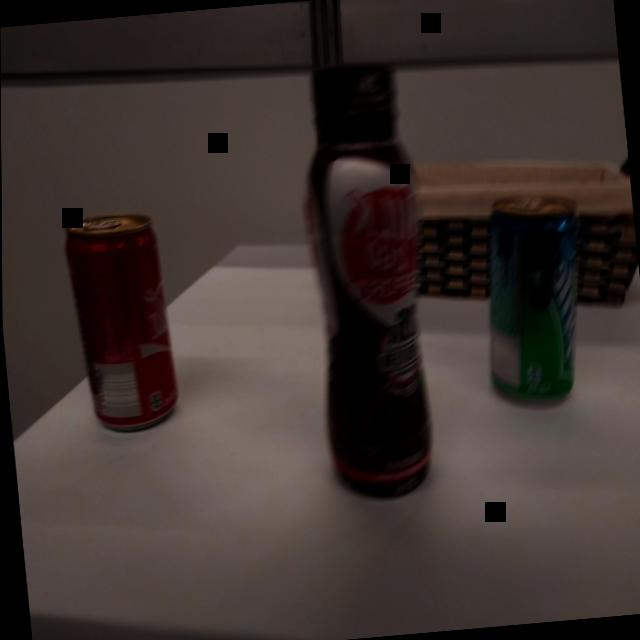chocolate_drink: (282, 59, 452, 514)
coke: (59, 204, 187, 437)
sprite: (465, 180, 597, 420)
